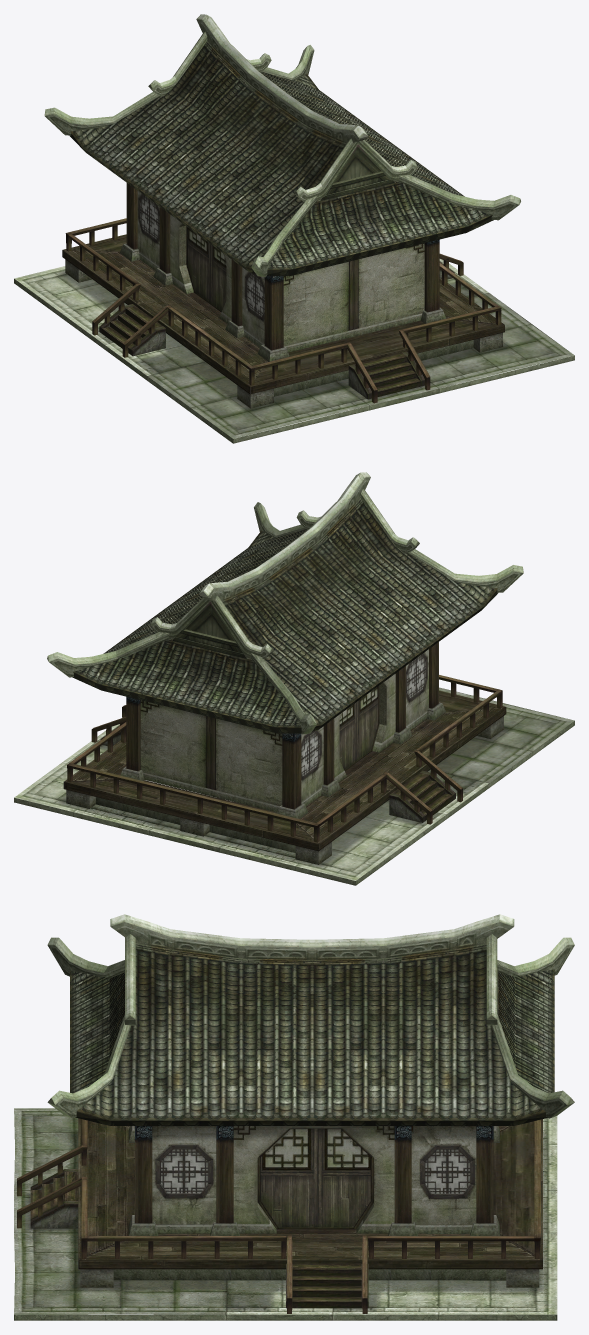
The model's file is ob-10-05-house03.fbx.
The picture shows the model from 3 angles, top to bottom: view 1: azimuth 30°, elevation 25°; view 2: azimuth 150°, elevation 25°; view 3: azimuth 270°, elevation 25°; orthographic projection. The views are drawn at different scales.
Parts seen in each view (by area): view 1: ob-10-05-house03-01, ob-10-05-house03-03, ob-10-05-house03-02; view 2: ob-10-05-house03-01, ob-10-05-house03-03, ob-10-05-house03-02; view 3: ob-10-05-house03-01, ob-10-05-house03-03, ob-10-05-house03-02.
Part boxes in pixels (x1=…): ob-10-05-house03-01: x1=14, y1=14, x2=574, y2=443; ob-10-05-house03-03: x1=62, y1=183, x2=574, y2=438; ob-10-05-house03-02: x1=137, y1=191, x2=424, y2=352; ob-10-05-house03-01: x1=14, y1=472, x2=574, y2=885; ob-10-05-house03-03: x1=63, y1=642, x2=574, y2=864; ob-10-05-house03-02: x1=140, y1=649, x2=428, y2=812; ob-10-05-house03-01: x1=14, y1=914, x2=574, y2=1320; ob-10-05-house03-03: x1=14, y1=1108, x2=542, y2=1314; ob-10-05-house03-02: x1=152, y1=1126, x2=476, y2=1233.
Bounding box in the file's own units: 14.73 × 10.06 × 16.91.
